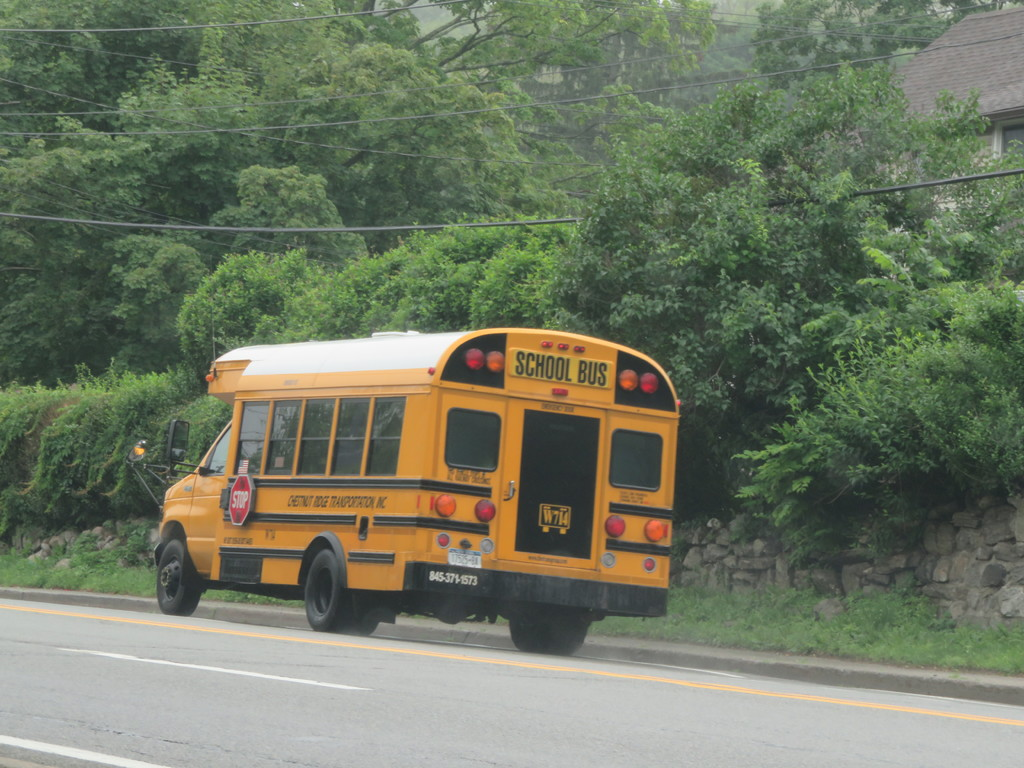Bus: (128, 325, 684, 656)
